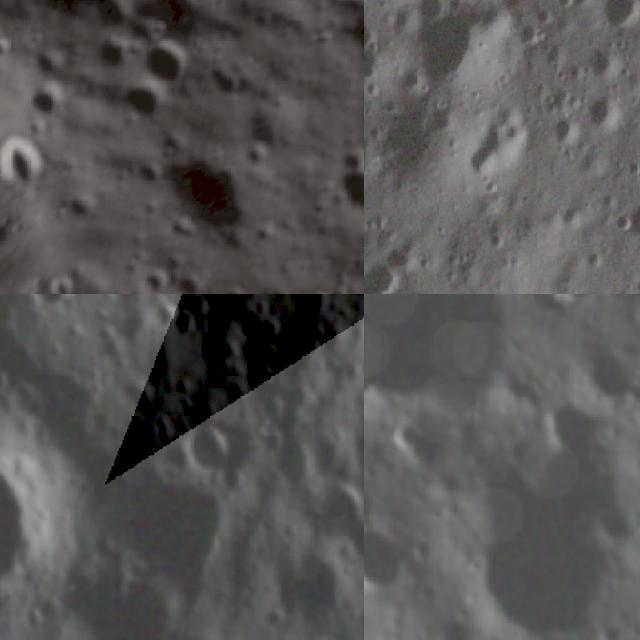crater: (432, 460, 625, 640), (364, 294, 532, 438), (0, 419, 68, 631), (557, 339, 640, 422), (413, 10, 497, 90), (455, 115, 532, 178), (278, 551, 352, 615), (9, 121, 65, 201), (364, 521, 413, 602), (128, 31, 194, 91), (314, 480, 364, 543), (325, 146, 364, 223), (187, 421, 231, 473), (240, 297, 283, 345), (276, 436, 313, 486), (582, 39, 624, 79), (364, 257, 409, 294), (587, 94, 627, 134), (124, 373, 159, 416), (548, 111, 584, 150), (385, 423, 425, 458), (601, 0, 640, 30), (514, 16, 548, 49), (25, 294, 78, 313), (291, 294, 329, 319), (558, 203, 586, 235), (578, 245, 608, 273), (623, 194, 640, 241), (544, 294, 596, 308), (613, 208, 637, 236), (287, 384, 310, 413), (176, 309, 202, 333), (157, 302, 174, 335), (98, 328, 118, 349), (577, 284, 614, 294), (625, 157, 640, 180), (552, 0, 577, 10)
